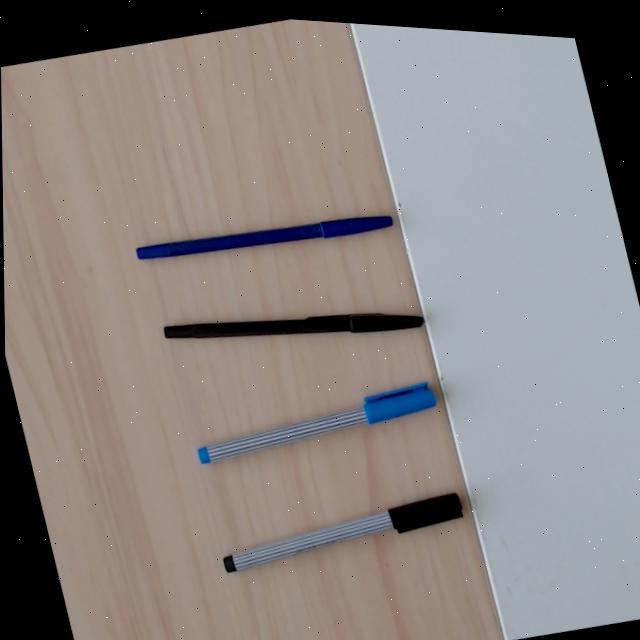Pulpen-Biru: (135, 210, 393, 262)
Pulpen-Garis-Biru: (194, 379, 437, 467)
Pulpen-Garis-Hitam: (217, 490, 465, 575)
Pulpen-Hitam: (164, 310, 424, 338)
